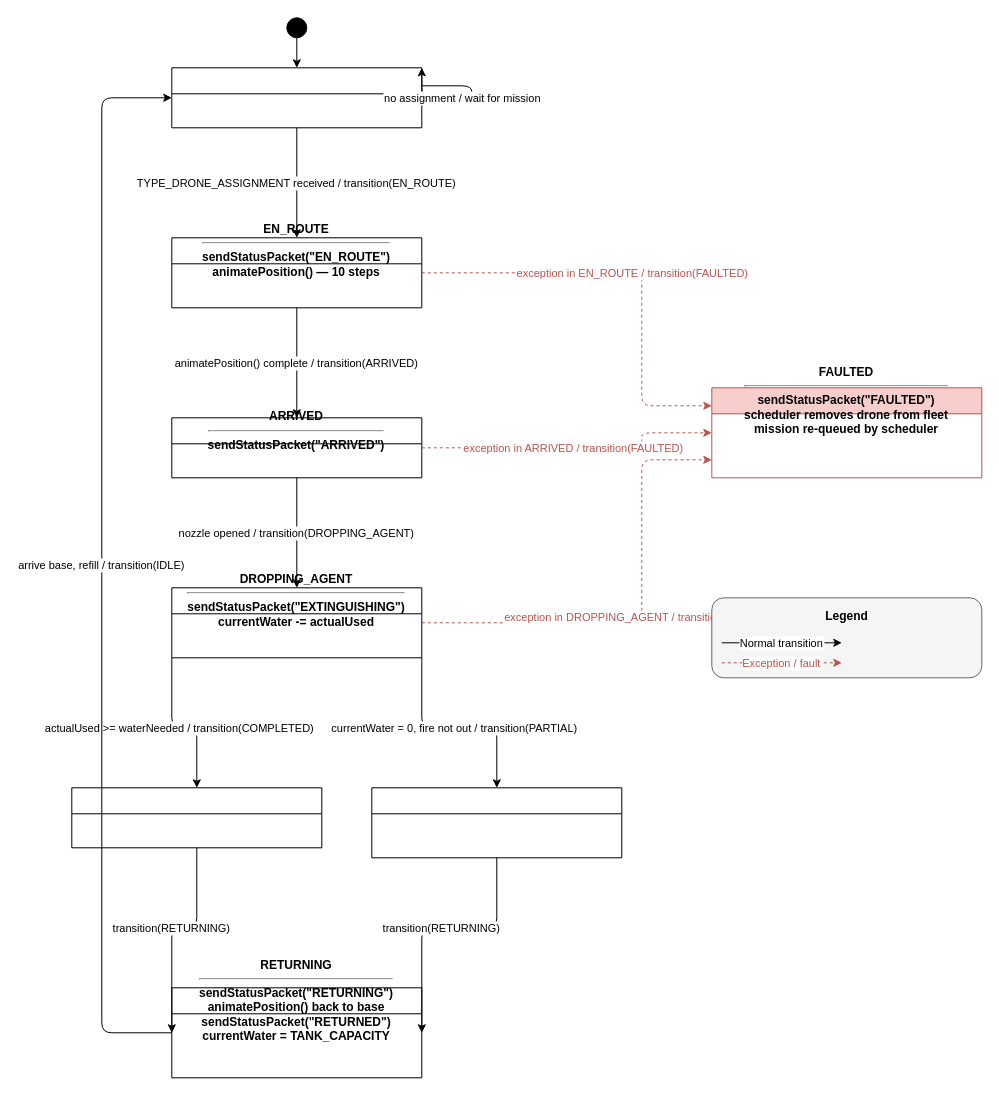
The diagram is 999 pixels wide and 1095 high, and some of its shapes have lost their labels. The box of each missing label's shape, as (x1, y1, x2, y2) in pixels:
COMPLETED sendStatusPacket("COMPLETED", waterUsed): (71, 787, 322, 848)
IDLE sendStatusPacket("IDLE"): (171, 67, 422, 128)
PARTIAL sendStatusPacket("PARTIAL", actualUsed) scheduler re-queues fire event: (371, 787, 622, 858)
